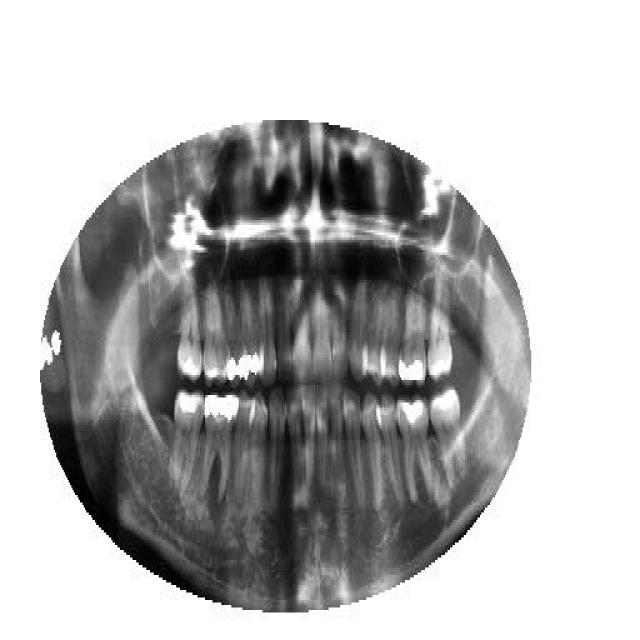Fillings: (201, 392, 239, 500), (395, 398, 434, 500), (398, 288, 428, 388), (224, 290, 245, 388), (240, 280, 259, 388)
